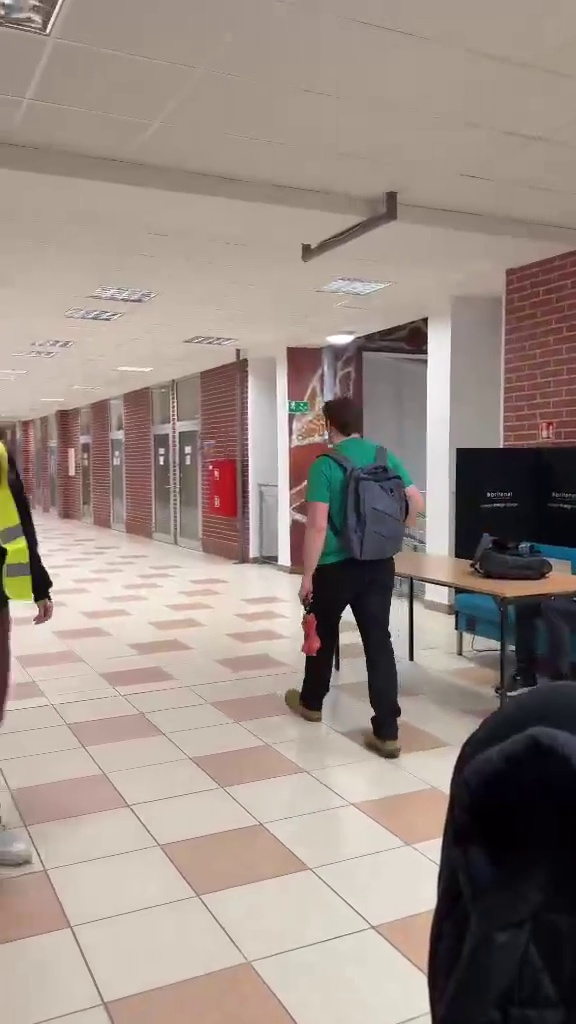no vest: (276, 388, 433, 758)
